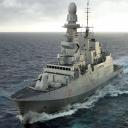Fragata: (1, 1, 87, 125)
